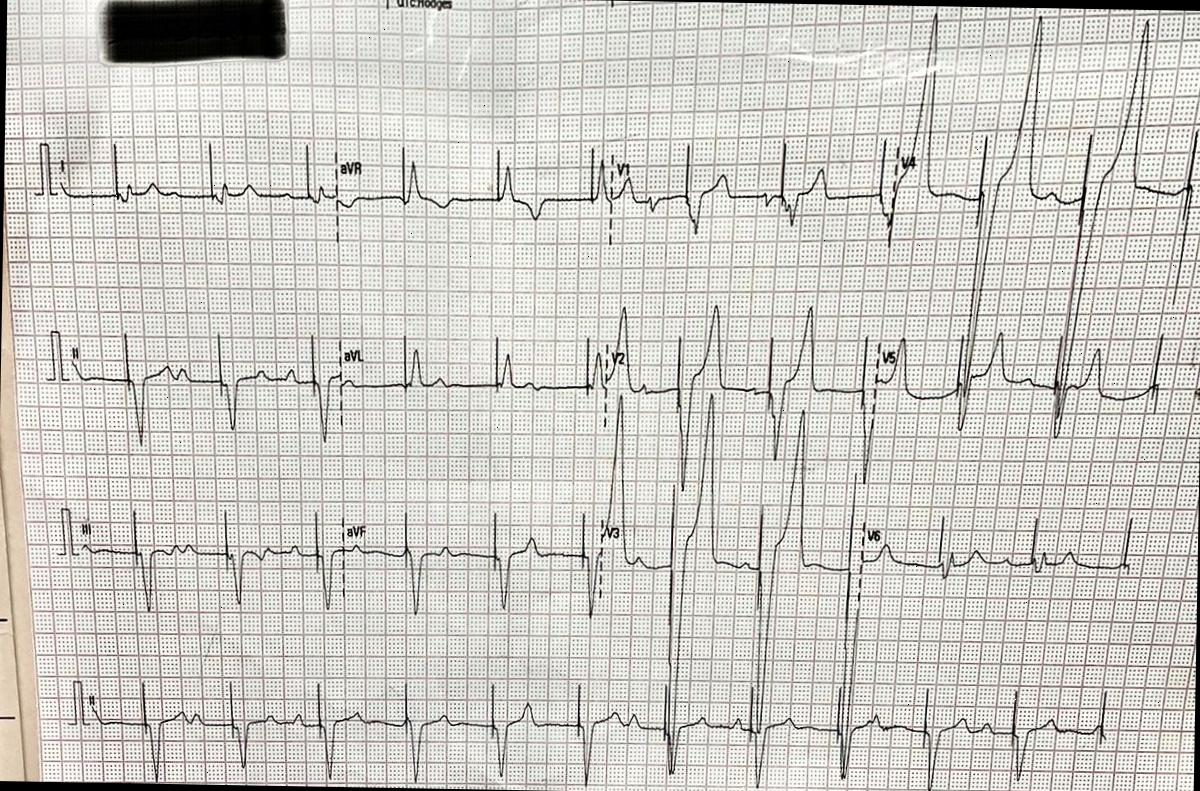Lead_I: (53, 126, 338, 240)
Lead_II: (61, 320, 345, 461)
Lead_III: (68, 494, 344, 630)
Lead_II_ext: (84, 663, 1113, 791)
Lead_V1: (612, 122, 896, 242)
Lead_V2: (604, 293, 884, 504)
Lead_V3: (595, 382, 866, 791)
Lead_V4: (891, 6, 1200, 424)
Lead_V5: (881, 301, 1175, 459)
Lead_V6: (861, 506, 1144, 595)
Lead_aVF: (336, 496, 605, 630)
Lead_aVL: (338, 314, 608, 428)
Lead_aVR: (337, 126, 613, 250)
